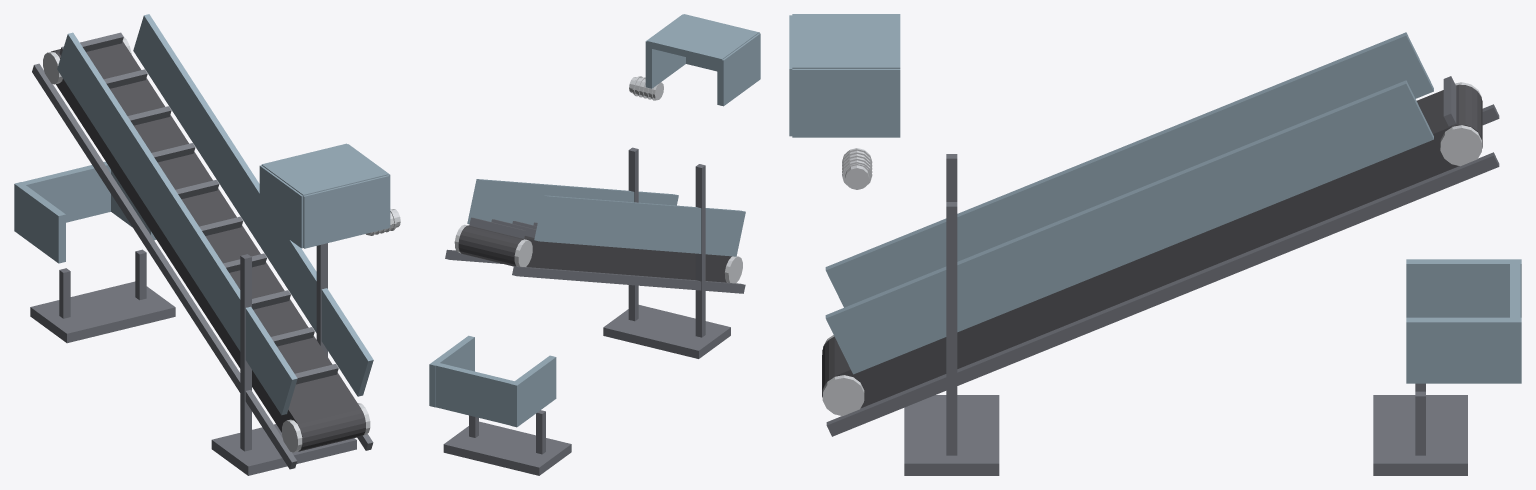
File: animated-mechanisms-kit-conveyor-lift-3fcd6461__24605.glb
3 views of the same model, side by side, from view 1: azimuth 30°, elevation 25°; view 2: azimuth 150°, elevation 25°; view 3: azimuth 270°, elevation 25° (orthographic). The views are drawn at different scales.
Visible parts, largest first — view 1: conveyor-lift, cleats; view 2: conveyor-lift, cleats; view 3: conveyor-lift.
Boxes of the visible parts, <box> form: conveyor-lift: <box>14,14,400,475</box>; cleats: <box>59,32,338,384</box>; conveyor-lift: <box>429,14,760,475</box>; cleats: <box>469,217,537,238</box>; conveyor-lift: <box>789,14,1521,475</box>.
Size of the model in its own units: 1.43 by 3.27 by 5.41.
